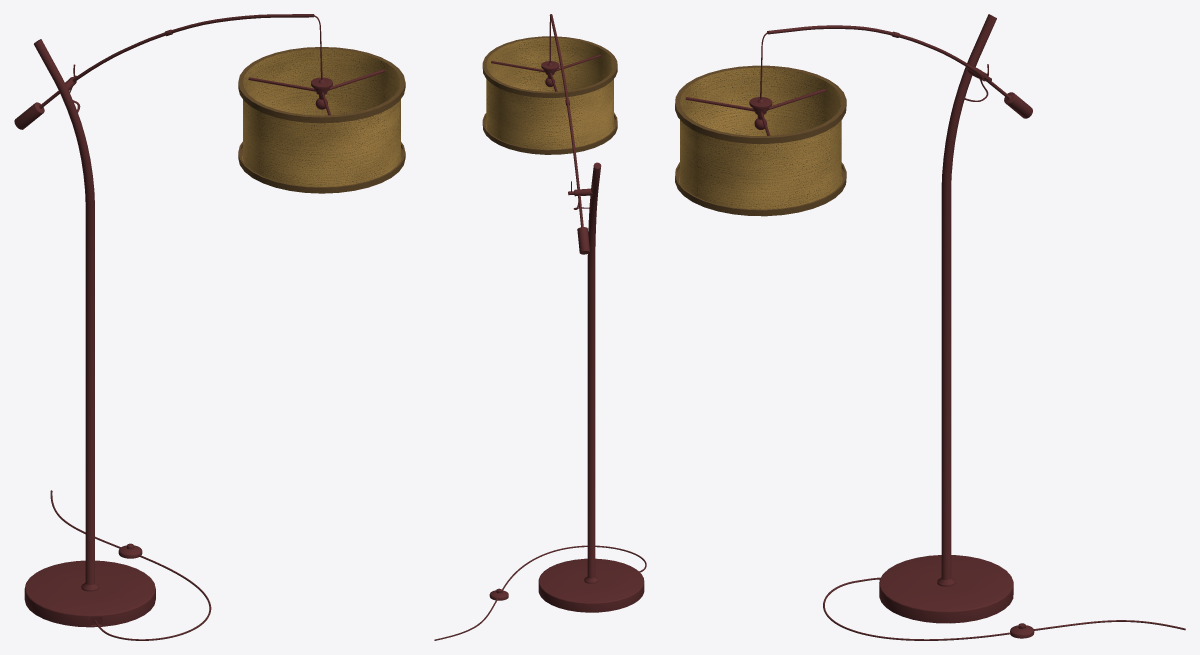
File: Floor_Lamp.fbx
The picture shows the model from 3 angles, left to right: view 1: azimuth 30°, elevation 25°; view 2: azimuth 150°, elevation 25°; view 3: azimuth 270°, elevation 25°; orthographic projection. The views are drawn at different scales.
Visible parts, largest first — view 1: Floor_Lamp; view 2: Floor_Lamp; view 3: Floor_Lamp.
Part boxes in pixels (<box>): Floor_Lamp: <box>14,14,405,640</box>; Floor_Lamp: <box>434,14,646,640</box>; Floor_Lamp: <box>675,14,1185,640</box>.
Size of the model in its own units: 62.62 by 136 by 99.78.
2 materials, 1 textured.
